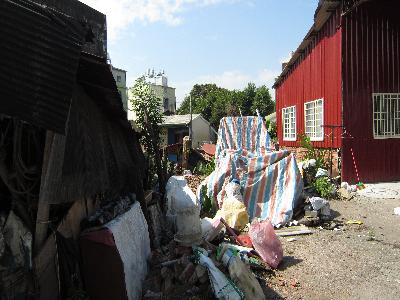bucket: (170, 204, 204, 248)
plastic_bag: (196, 113, 307, 226), (247, 217, 288, 267)
